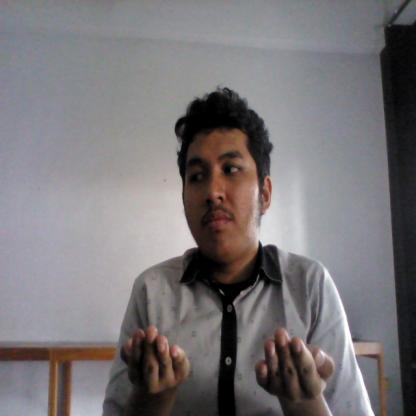Apa: (93, 322, 340, 416)
